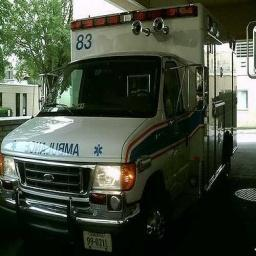ambulance: (0, 4, 236, 251)
